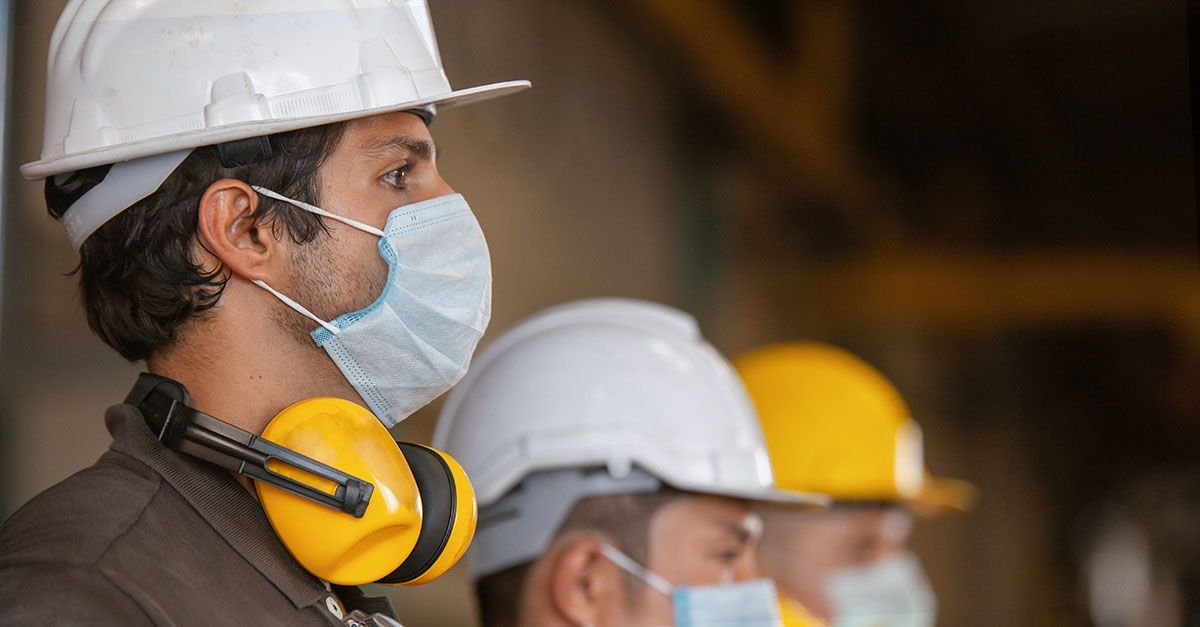With Helmet: (10, 1, 539, 404), (437, 303, 837, 627), (738, 332, 986, 627)
